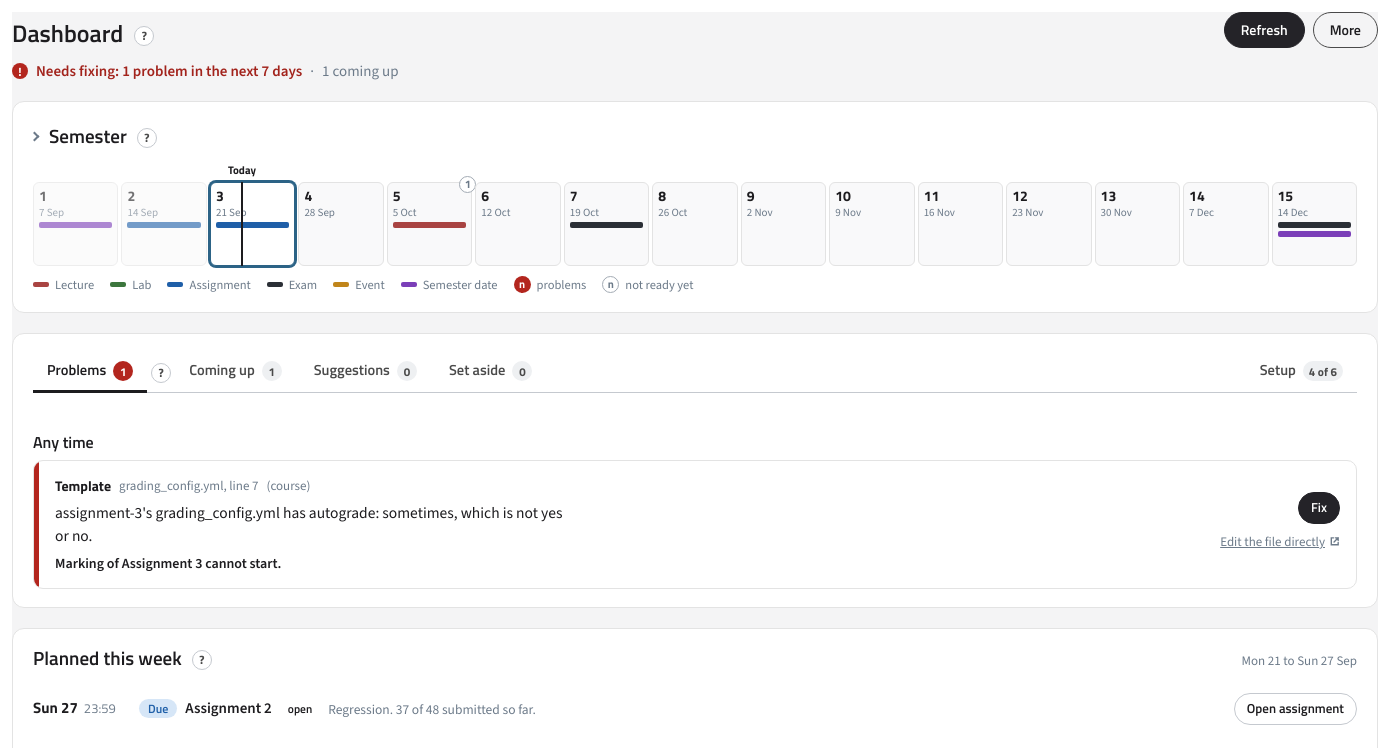
it: the Dashboard and the horizon (decision 0034) › neither counts nor lists a later problem: it waits in Coming up, by week, with when it becomes a problem
The image size is (1390, 748).
Step 1. Click the tab "Coming up 1" → point(235, 373), box [175,352,296,393]
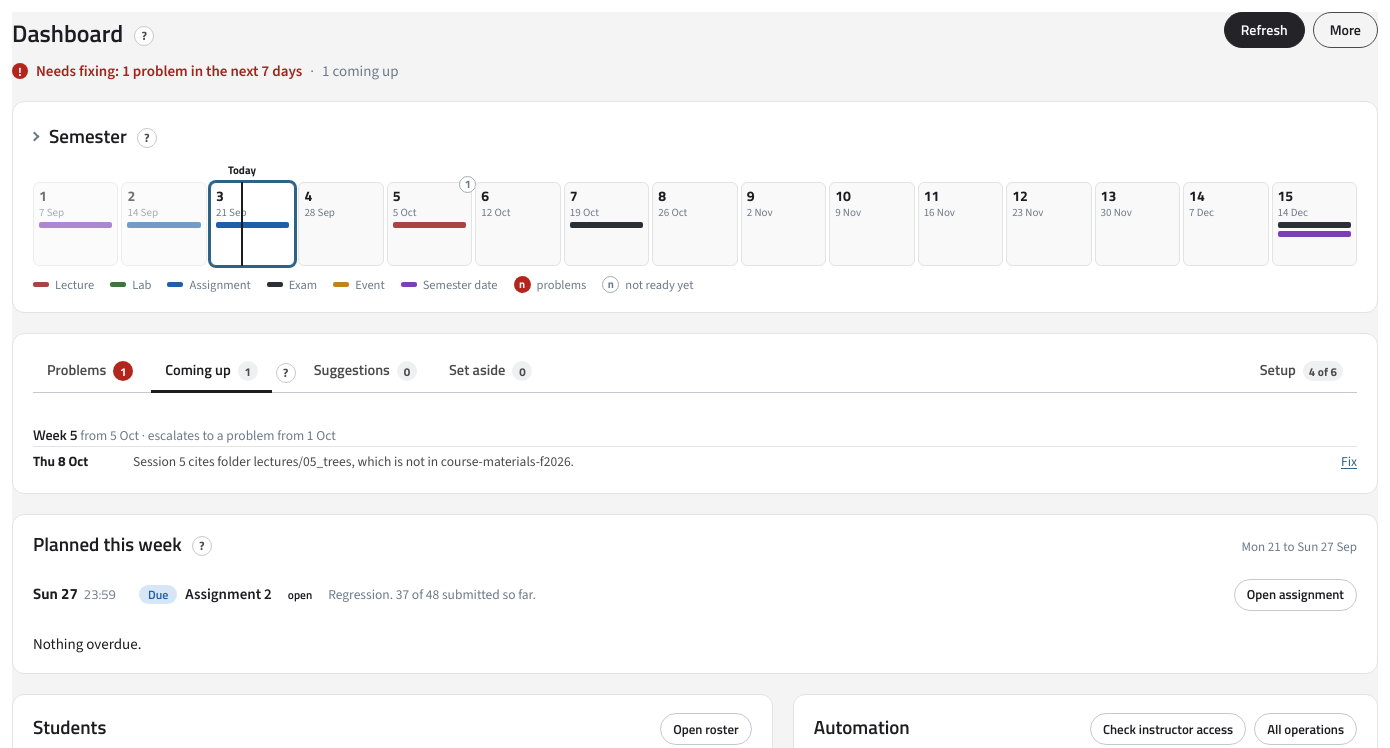
Now the heading with class "week-h" reads "Week 5 from 5 Oct · escalates to a problem from 1 Oct", box [33,424,336,445]
Now the list item that starts with "Thu 8 Oct" shows "Session 5 cites folder lectures/05_trees", box [133,452,574,470]
